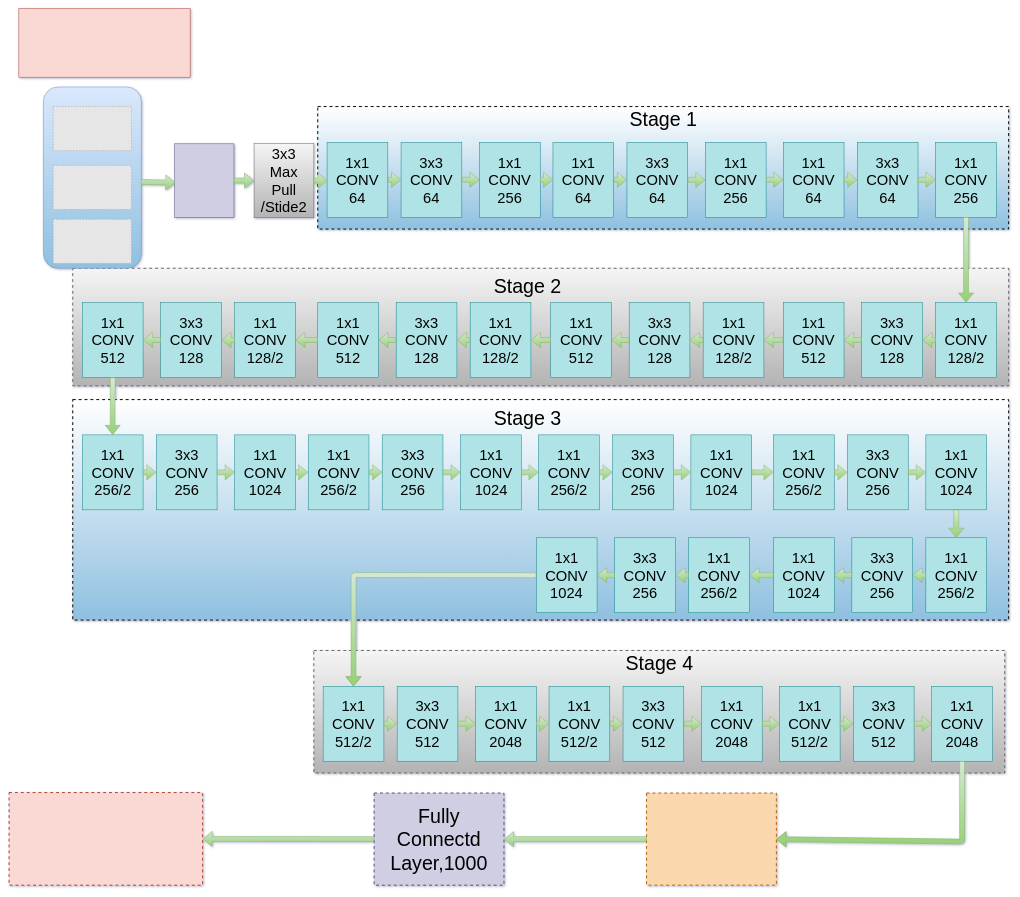
Image size: 1020x897. Some labels were removed from this diagram. Grey dashed boxes stand in for pictures. Each missing label, with the box of its shape:
7x7 CONV 64 Stide2: (174, 143, 234, 217)
Average Pulling: (646, 792, 777, 885)
Input Image Shape 224*224*3: (18, 8, 190, 77)
Output shape 7*7*2048: (8, 792, 203, 885)
